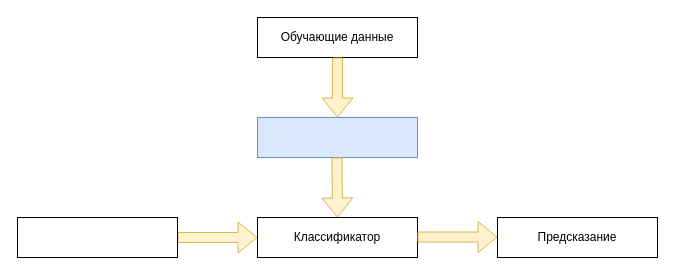
This 675x275 diagram has some shape labels left out. The shapes that lost their labels are listed below. From the top down, each one's centre as x and y in pixels, then its label:
At [337,137]: "ML Алгоритм".
At [97,237]: "Новые данные".
